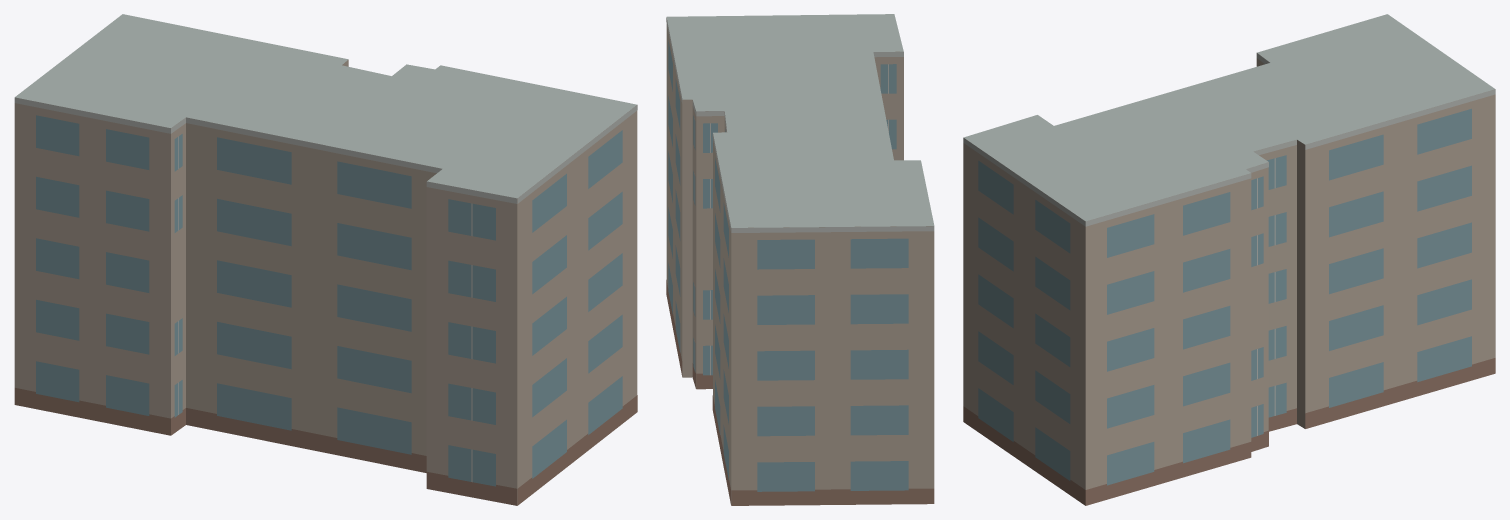
File: survey-upis-32961407.glb
3 views of the same model, side by side, from view 1: azimuth 30°, elevation 25°; view 2: azimuth 150°, elevation 25°; view 3: azimuth 270°, elevation 25° (orthographic). The views are drawn at different scales.
Parts seen in each view (by area): view 1: survey-upis-32961407.tmp; view 2: survey-upis-32961407.tmp; view 3: survey-upis-32961407.tmp.
Part boxes in pixels (x1,y1,x2,y2): survey-upis-32961407.tmp: [14, 14, 637, 505]; survey-upis-32961407.tmp: [666, 14, 934, 505]; survey-upis-32961407.tmp: [963, 14, 1495, 505].
Bounding box in the file's own units: 20.66 × 13.2 × 22.39.
